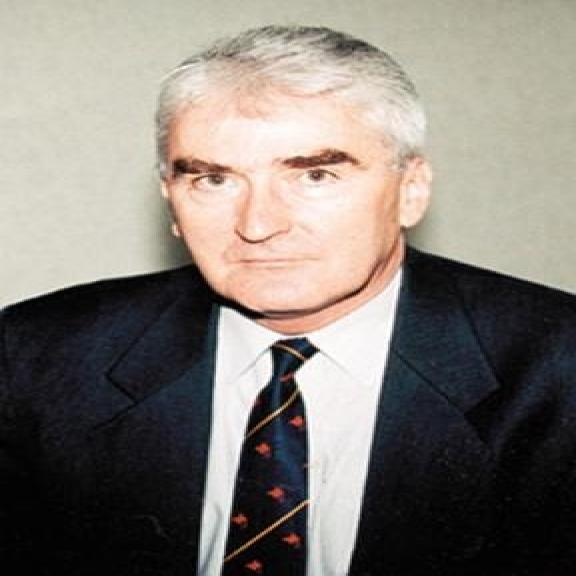face: (160, 104, 438, 320)
